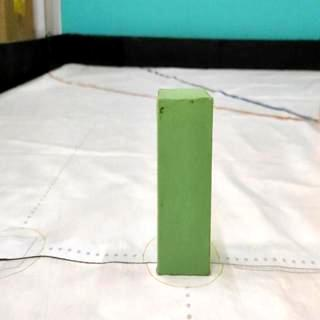greenbox: (156, 88, 212, 279)
